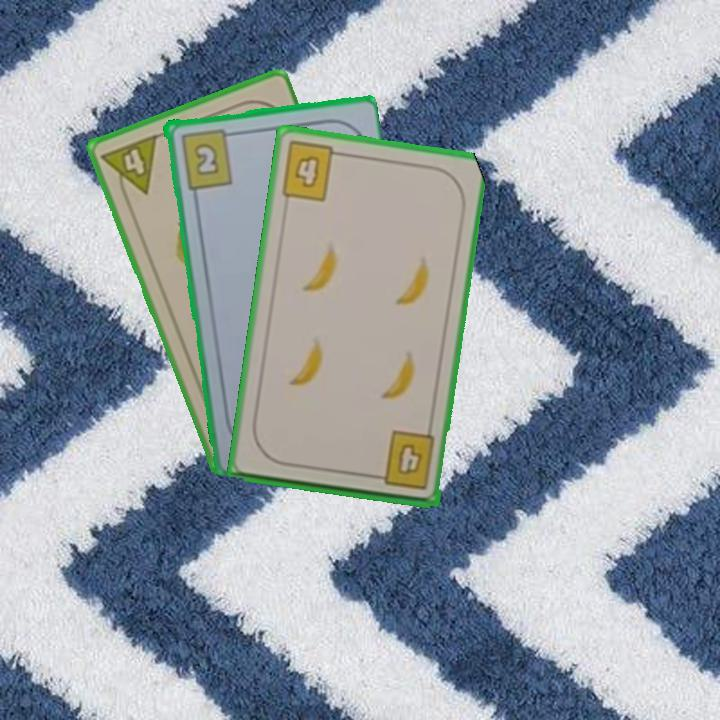2b: (177, 125, 238, 192)
4b: (277, 138, 347, 204), (368, 427, 437, 493)
4p: (98, 130, 160, 204)
